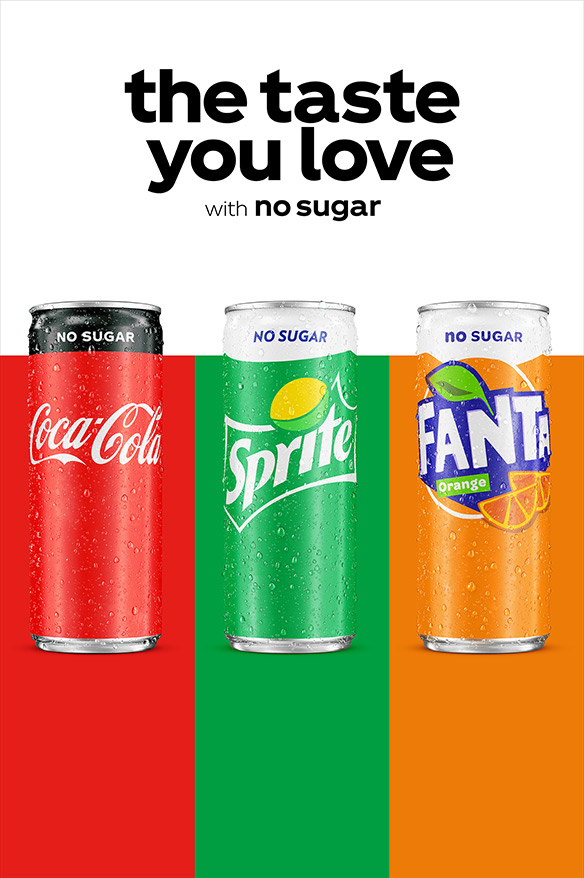Coca-Cola: (29, 283, 168, 665)
Fanta: (412, 282, 551, 664)
Sprite: (219, 285, 358, 668)
